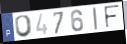4: (35, 12, 49, 36)
6: (70, 9, 84, 33)
7: (53, 10, 65, 35)
F: (104, 4, 121, 30)
I: (91, 6, 99, 31)
O: (14, 14, 34, 38)
